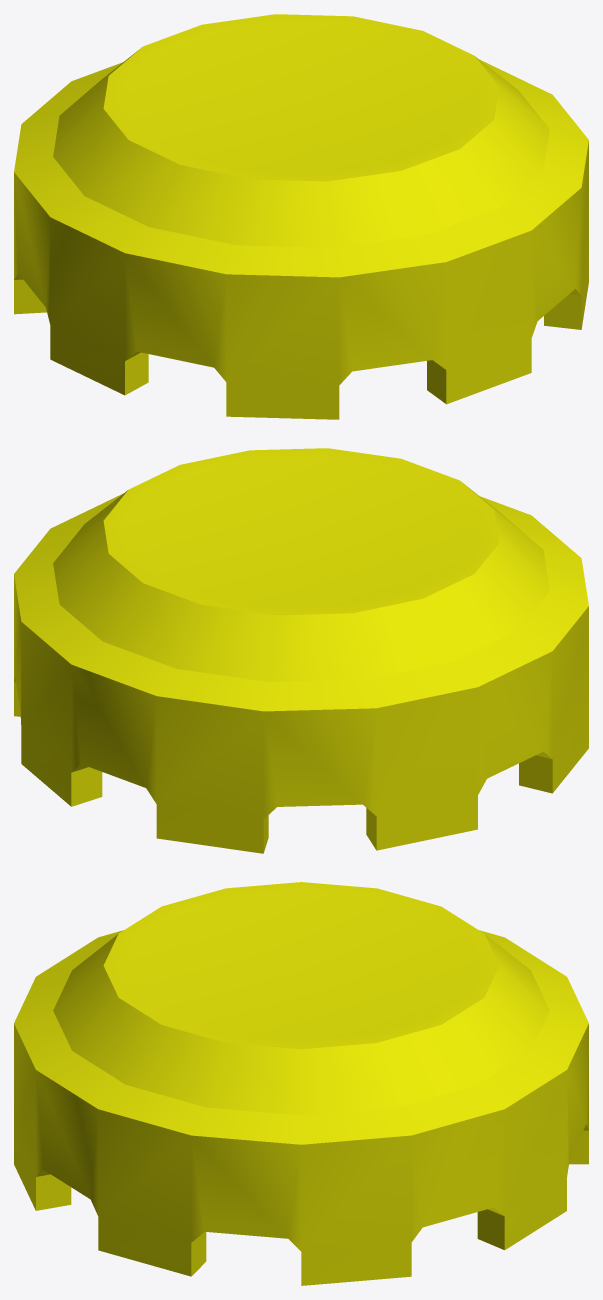
3 views of the same model, one above another, from view 1: azimuth 30°, elevation 25°; view 2: azimuth 150°, elevation 25°; view 3: azimuth 270°, elevation 25° (orthographic).
Visible parts, largest first — view 1: naphop; view 2: naphop; view 3: naphop.
Boxes of the visible parts, x1,y1,x2,y2 form: naphop: (14,14,588,419); naphop: (14,448,588,853); naphop: (14,882,588,1285).
Bounding box in the file's own units: 0.4271 × 0.1629 × 0.4271.
1 material, 1 textured.
